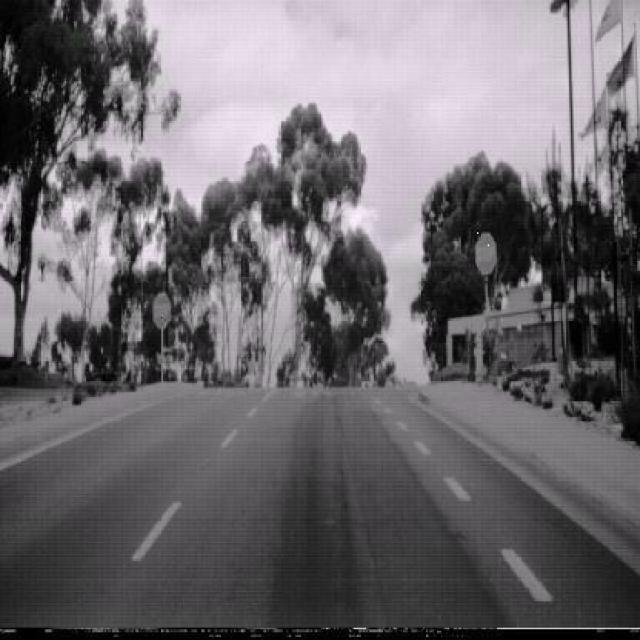stop: (474, 232, 496, 276), (152, 291, 171, 328)
